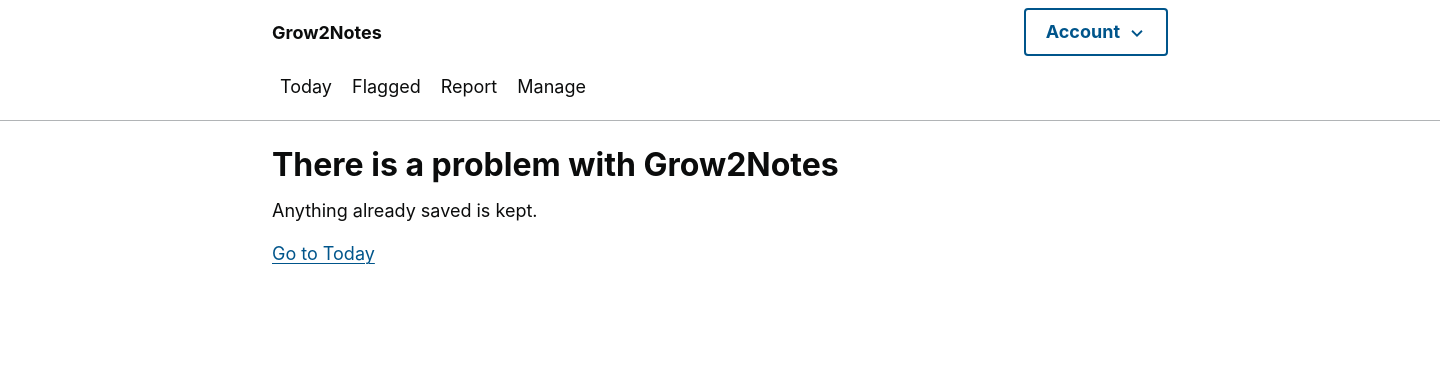
the crash page under the nav › keeps the nav and Account there and working
Click the button "Account" at coordinates (1096, 32), box top-left (1024, 8), bottom-right (1168, 56)
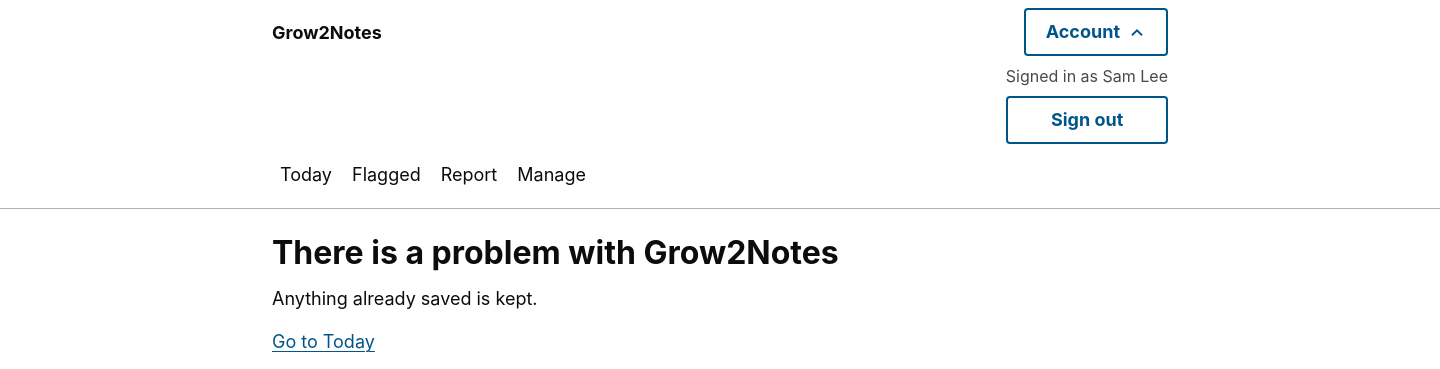
expect the links read "Today", "Flagged", "Report", "Manage", in this order: met, box top-left (280, 164), bottom-right (332, 184); top-left (352, 164), bottom-right (421, 184); top-left (441, 164), bottom-right (497, 184); top-left (517, 164), bottom-right (586, 184)
expect the text "Signed in as Sam Lee" is shown: met, box top-left (1006, 64), bottom-right (1168, 88)
